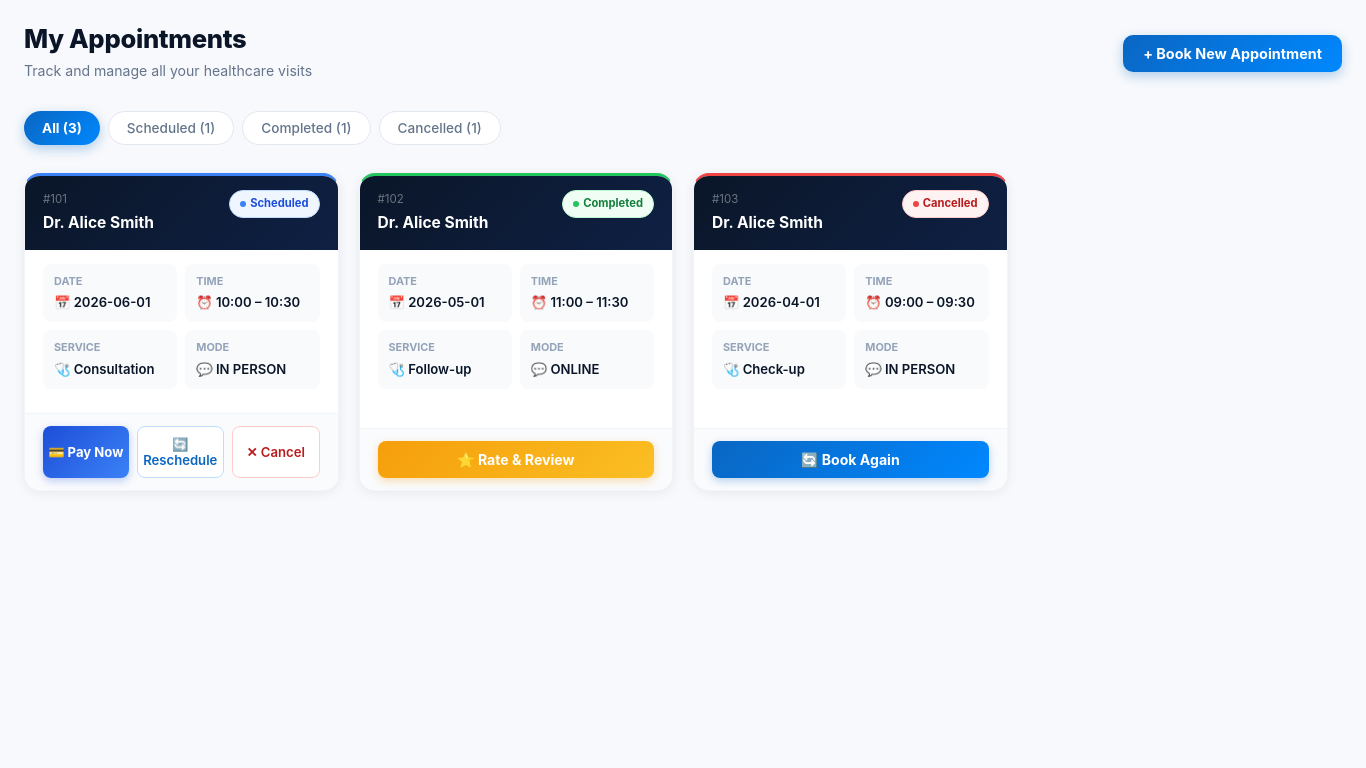
Test: MyAppointments Component › opens reschedule modal when Reschedule button is clicked
Wait for component to load, then click the 🔄 Reschedule button
Click the button "🔄 Reschedule".
click(180, 452)  # box [136, 426, 224, 478]
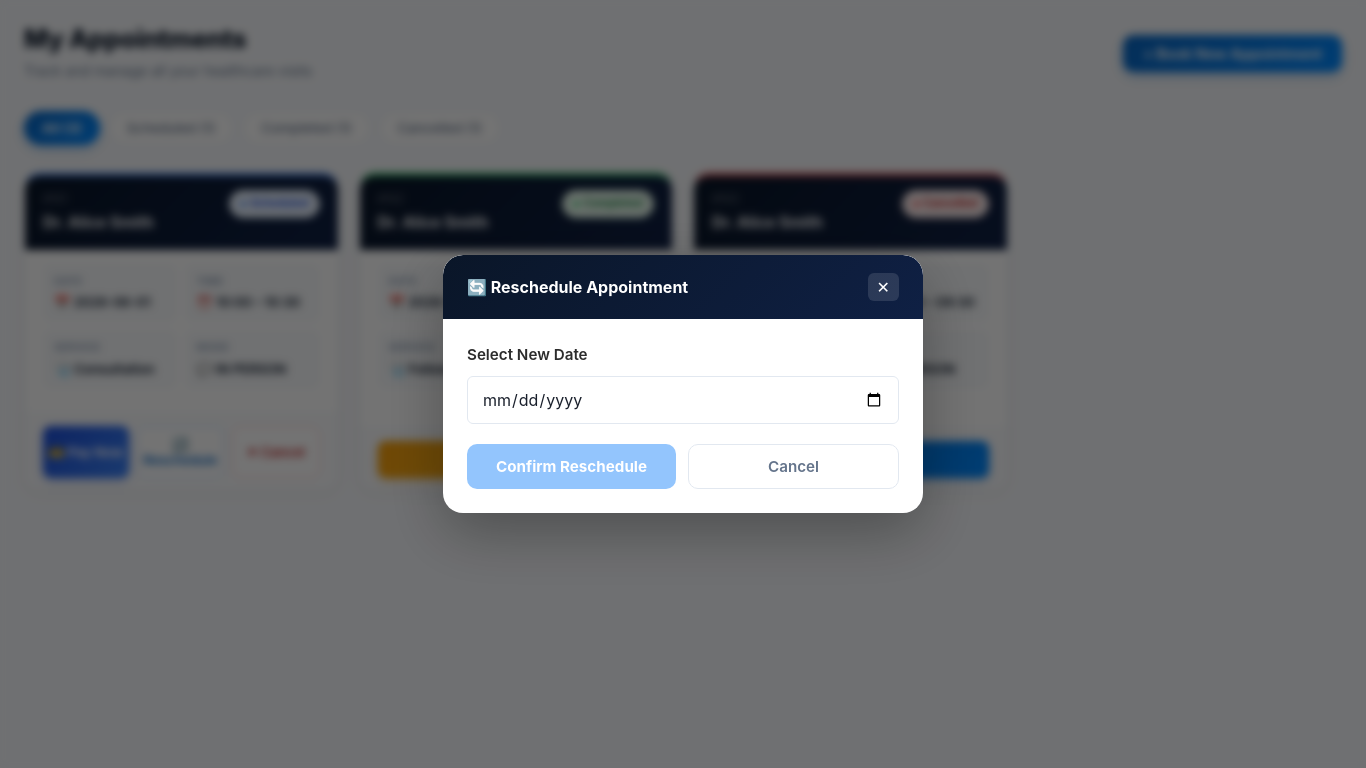
Check: the heading "🔄 Reschedule Appointment" is shown, box [467, 278, 688, 297]
